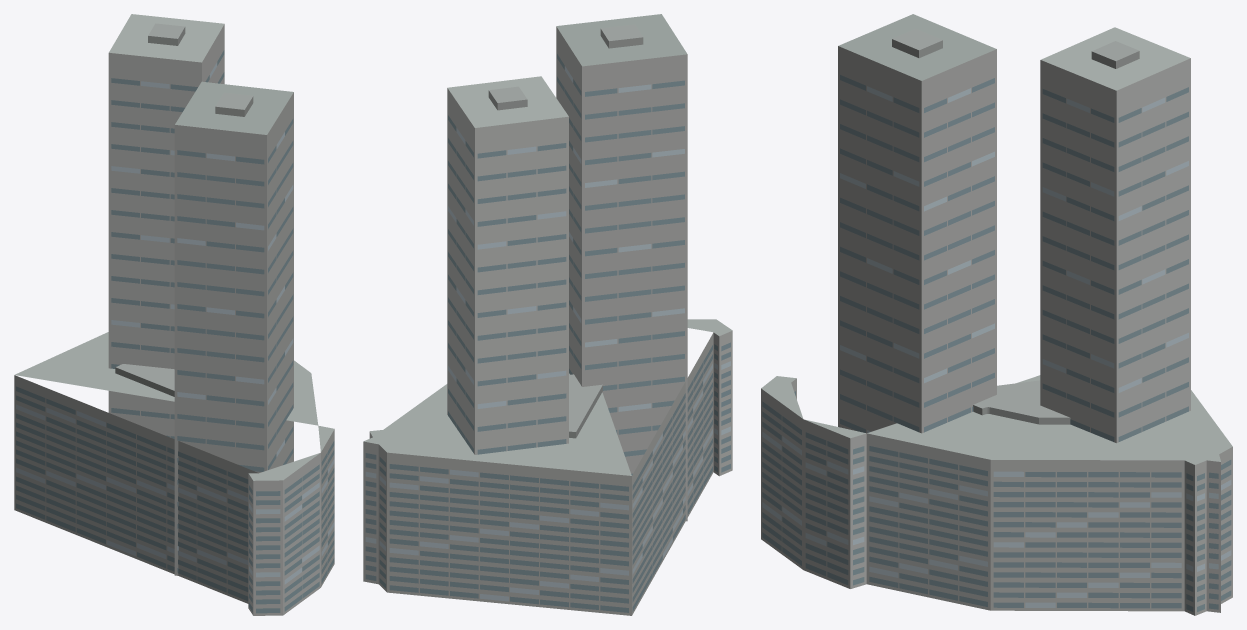
File: apt-a10027670.glb
3 views of the same model, side by side, from view 1: azimuth 30°, elevation 25°; view 2: azimuth 150°, elevation 25°; view 3: azimuth 270°, elevation 25° (orthographic). The views are drawn at different scales.
Parts seen in each view (by area): view 1: apt-a10027670; view 2: apt-a10027670; view 3: apt-a10027670.
Boxes of the visible parts, x1,y1,x2,y2 form: apt-a10027670: (14, 14, 334, 615); apt-a10027670: (363, 14, 732, 615); apt-a10027670: (761, 14, 1232, 615).
Bounding box in the file's own units: 83.01 × 155 × 130.
